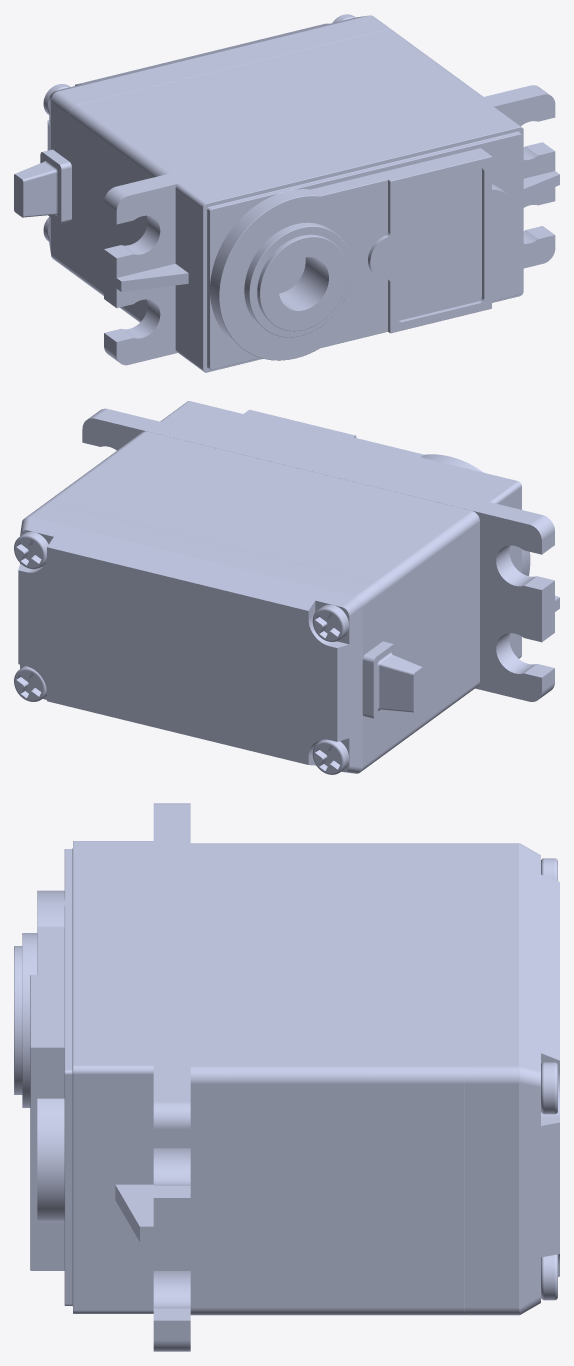
The model's file is _2000_0025_0002_STEP_1__1_.obj.
3 renders of one model, top to bottom at view 1: azimuth 30°, elevation 25°; view 2: azimuth 150°, elevation 25°; view 3: azimuth 270°, elevation 25°, orthographic. The views are drawn at different scales.
Visible parts, largest first — view 1: mesh3751, mesh3960, mesh4026, mesh4042, mesh3724, mesh3729, mesh4040, mesh4036, mesh3962, mesh4012, mesh3959, mesh3954 (+25 smaller); view 2: mesh3775, mesh3751, mesh3960, mesh3724, mesh3911, mesh3766, mesh3729, mesh3762, mesh3703, mesh3732, mesh4014, mesh3717 (+6 smaller); view 3: mesh3756, mesh3751, mesh3960, mesh3946, mesh3746, mesh3729, mesh3766, mesh3776, mesh3754, mesh4017, mesh4014, mesh4015 (+15 smaller).
Part boxes in pixels (<box>): mesh3751: <box>78,29,479,172</box>; mesh3960: <box>116,85,542,203</box>; mesh4026: <box>219,180,387,360</box>; mesh4042: <box>398,168,481,320</box>; mesh3724: <box>69,115,153,319</box>; mesh3729: <box>59,16,386,104</box>; mesh4040: <box>370,157,491,332</box>; mesh4036: <box>260,237,347,330</box>; mesh3962: <box>175,189,202,368</box>; mesh4012: <box>295,134,522,300</box>; mesh3959: <box>116,183,178,277</box>; mesh3954: <box>116,285,177,365</box>; mesh3775: <box>18,547,337,764</box>; mesh3751: <box>50,431,470,581</box>; mesh3960: <box>95,401,541,524</box>; mesh3724: <box>382,522,479,751</box>; mesh3911: <box>82,418,541,701</box>; mesh3766: <box>28,517,354,610</box>; mesh3729: <box>31,503,373,596</box>; mesh3762: <box>337,607,362,767</box>; mesh3703: <box>380,655,421,712</box>; mesh3732: <box>374,510,479,592</box>; mesh4014: <box>244,409,423,457</box>; mesh3717: <box>363,593,382,657</box>; mesh3756: <box>190,1084,463,1307</box>; mesh3751: <box>190,844,463,1065</box>; mesh3960: <box>73,805,190,1101</box>; mesh3946: <box>73,1074,153,1309</box>; mesh3746: <box>464,1084,518,1307</box>; mesh3729: <box>464,844,518,1065</box>; mesh3766: <box>519,844,559,1070</box>; mesh3776: <box>519,1083,559,1307</box>; mesh3754: <box>190,1066,463,1083</box>; mesh4017: <box>31,1047,64,1270</box>; mesh4014: <box>31,926,64,1047</box>; mesh4015: <box>37,1098,64,1221</box>.
Size of the model in its own units: 0.0543 by 0.02 by 0.0399.
